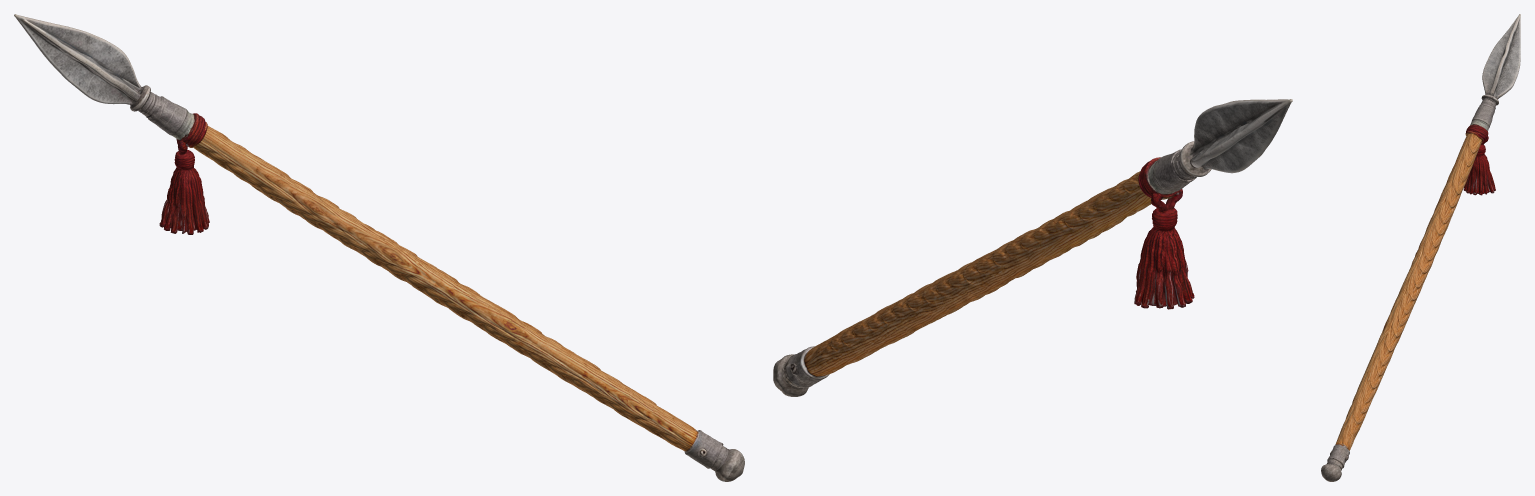
File: Osmanlı piyade mızrağı.glb
3 views of the same model, side by side, from view 1: azimuth 30°, elevation 25°; view 2: azimuth 150°, elevation 25°; view 3: azimuth 270°, elevation 25° (orthographic). The views are drawn at different scales.
Visible parts, largest first — view 1: tripo_node_aa9d410d-48d8-4fc1-b4ed-0985a5234a83; view 2: tripo_node_aa9d410d-48d8-4fc1-b4ed-0985a5234a83; view 3: tripo_node_aa9d410d-48d8-4fc1-b4ed-0985a5234a83.
Part boxes in pixels (left/top/right/bottom): tripo_node_aa9d410d-48d8-4fc1-b4ed-0985a5234a83: left=14, top=14, right=744, bottom=481; tripo_node_aa9d410d-48d8-4fc1-b4ed-0985a5234a83: left=773, top=99, right=1292, bottom=396; tripo_node_aa9d410d-48d8-4fc1-b4ed-0985a5234a83: left=1321, top=14, right=1520, bottom=481.
Bounding box in the file's own units: 0.9788 × 0.7957 × 0.4804.
Materials: 1 (1 with a texture image).
